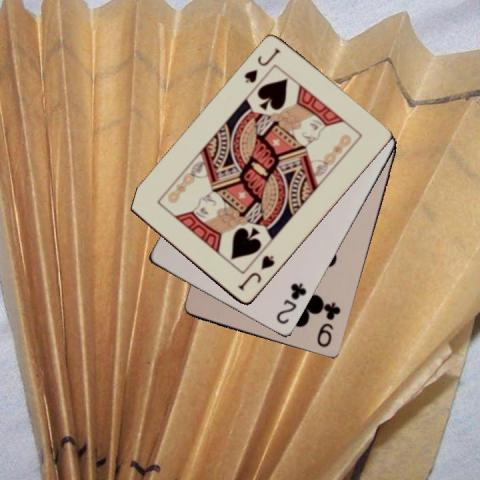2c: (273, 280, 309, 326)
9c: (315, 300, 342, 350)
Js: (241, 45, 282, 85), (235, 253, 277, 292)
